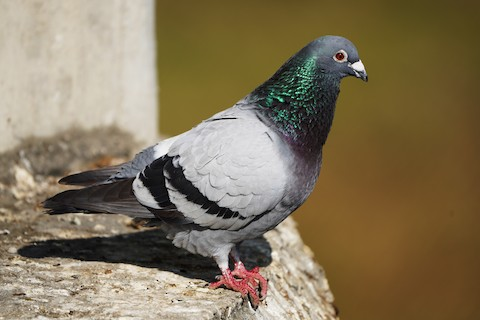pigeon: (41, 33, 372, 311)
